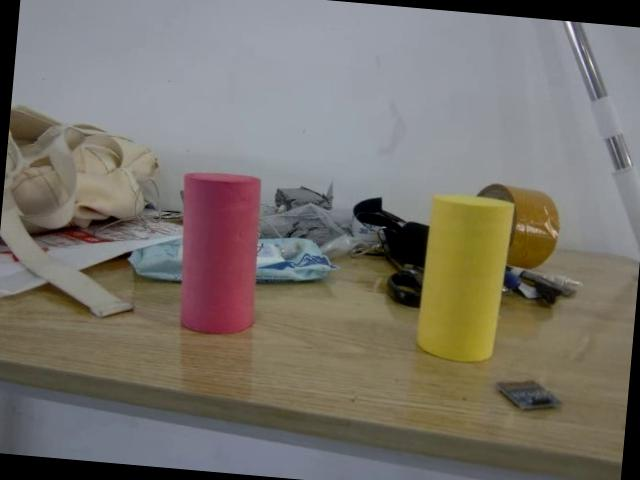red_cylinder: (168, 165, 269, 342)
yellow_cylinder: (414, 188, 514, 369)
